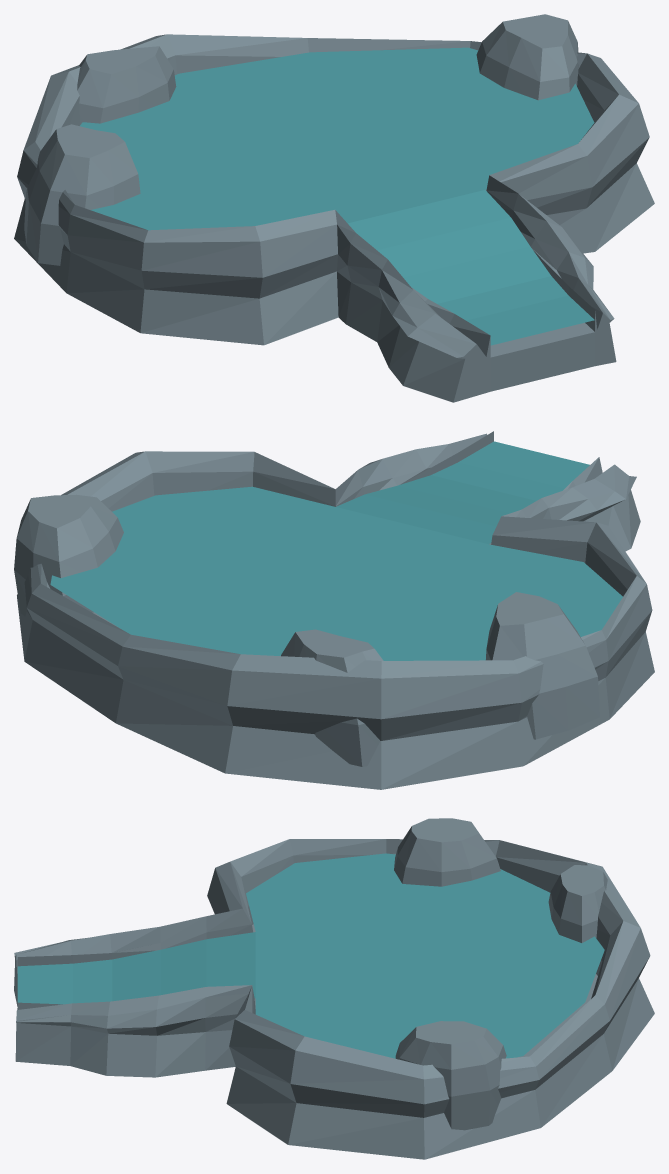
File: world05-fall-basin-v1.glb
3 renders of one model, top to bottom at view 1: azimuth 30°, elevation 25°; view 2: azimuth 150°, elevation 25°; view 3: azimuth 270°, elevation 25°, orthographic. The views are drawn at different scales.
Visible parts, largest first — view 1: cavern-fall-basin-rock-surface, cavern-fall-basin-water-surface; view 2: cavern-fall-basin-rock-surface, cavern-fall-basin-water-surface; view 3: cavern-fall-basin-rock-surface, cavern-fall-basin-water-surface.
Boxes of the visible parts, bbox=[...] form: cavern-fall-basin-rock-surface: bbox=[14, 14, 654, 402]; cavern-fall-basin-water-surface: bbox=[80, 47, 594, 345]; cavern-fall-basin-rock-surface: bbox=[14, 431, 654, 789]; cavern-fall-basin-water-surface: bbox=[50, 441, 622, 660]; cavern-fall-basin-rock-surface: bbox=[14, 818, 654, 1159]; cavern-fall-basin-water-surface: bbox=[17, 853, 604, 1058].
Size of the model in its own units: 9.1 by 1.82 by 9.82.
